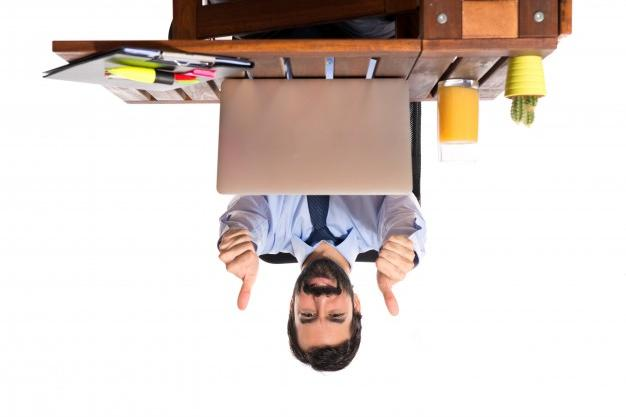thumbsdown: (375, 235, 415, 317), (218, 229, 255, 311)
